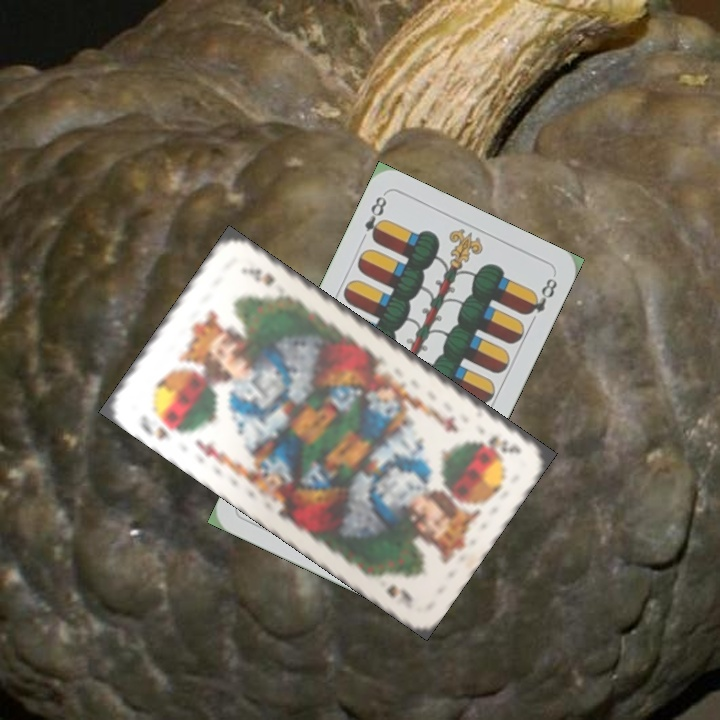E8: (360, 192, 390, 245)
SK: (136, 410, 172, 443), (484, 431, 524, 457)
